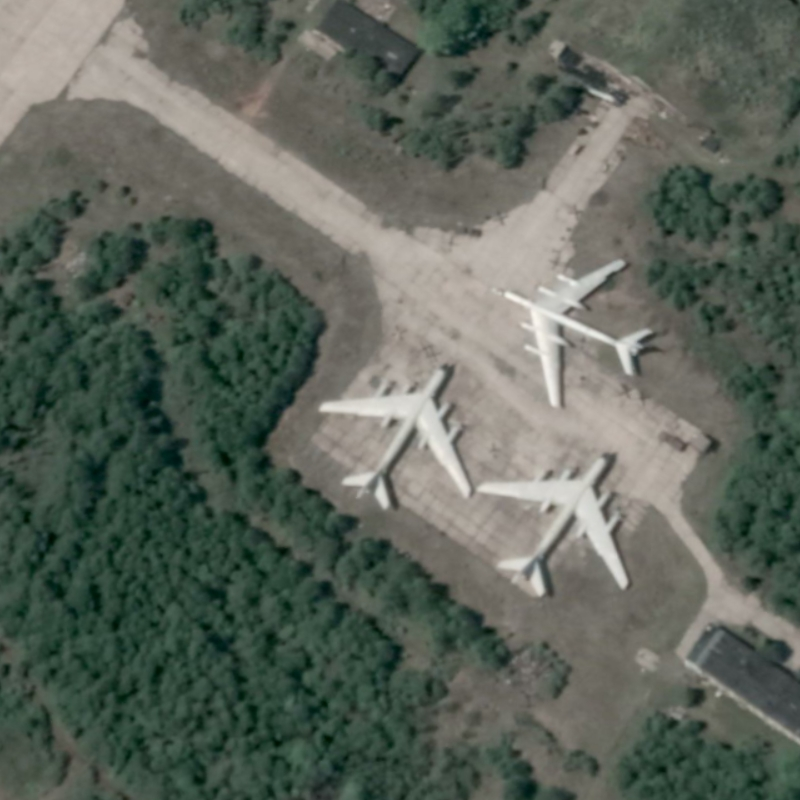A17: (313, 356, 476, 514), (493, 253, 655, 411), (472, 447, 634, 601)
